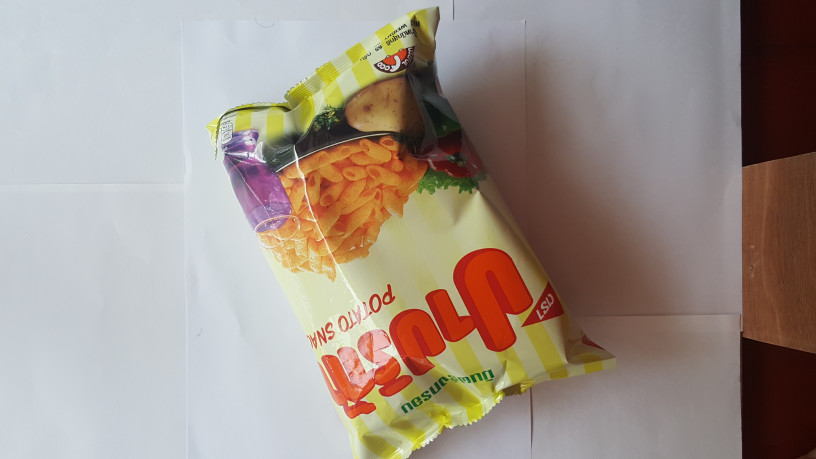paprika: (190, 1, 614, 459)
